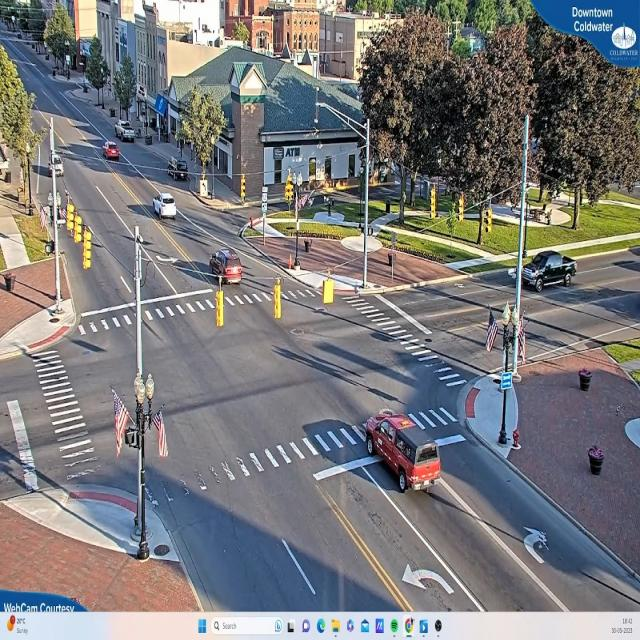car: (365, 410, 454, 492), (520, 251, 576, 290), (206, 244, 244, 288), (153, 191, 177, 220), (117, 122, 137, 144), (102, 142, 122, 162)
